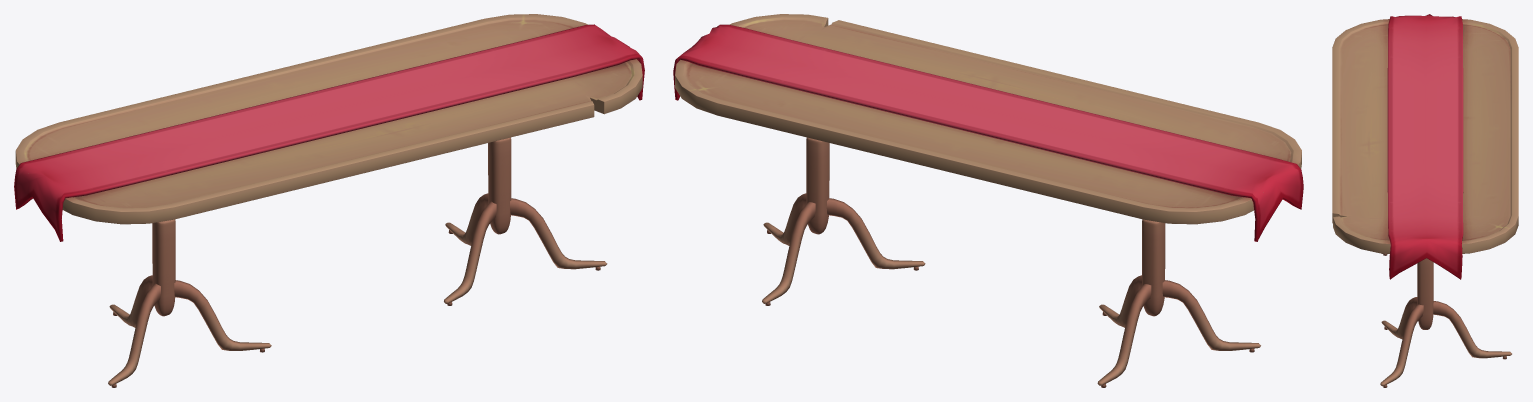
File: Finish Table.fbx
3 renders of one model, left to right at view 1: azimuth 30°, elevation 25°; view 2: azimuth 150°, elevation 25°; view 3: azimuth 270°, elevation 25°, orthographic. The views are drawn at different scales.
Parts seen in each view (by area): view 1: Finish Table; view 2: Finish Table; view 3: Finish Table.
Boxes of the visible parts, <box> form: Finish Table: <box>14,14,644,387</box>; Finish Table: <box>673,14,1303,387</box>; Finish Table: <box>1332,14,1518,387</box>.
Bounding box in the file's own units: 376 × 123 × 127.
